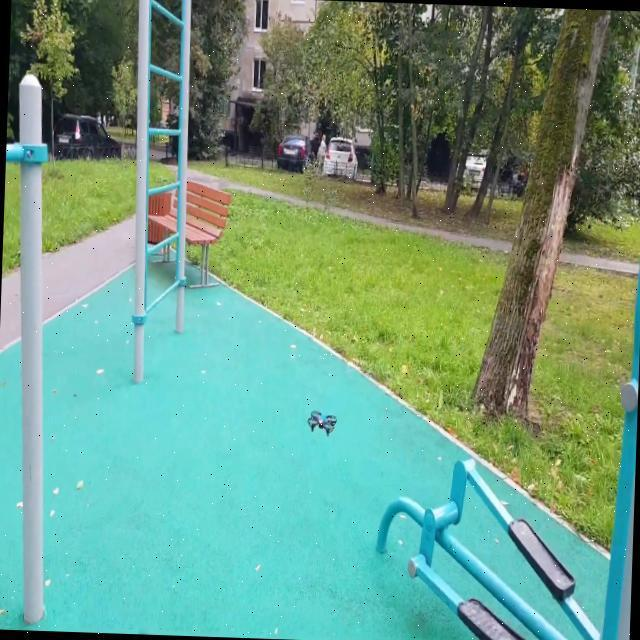Drons: (305, 408, 338, 437)
